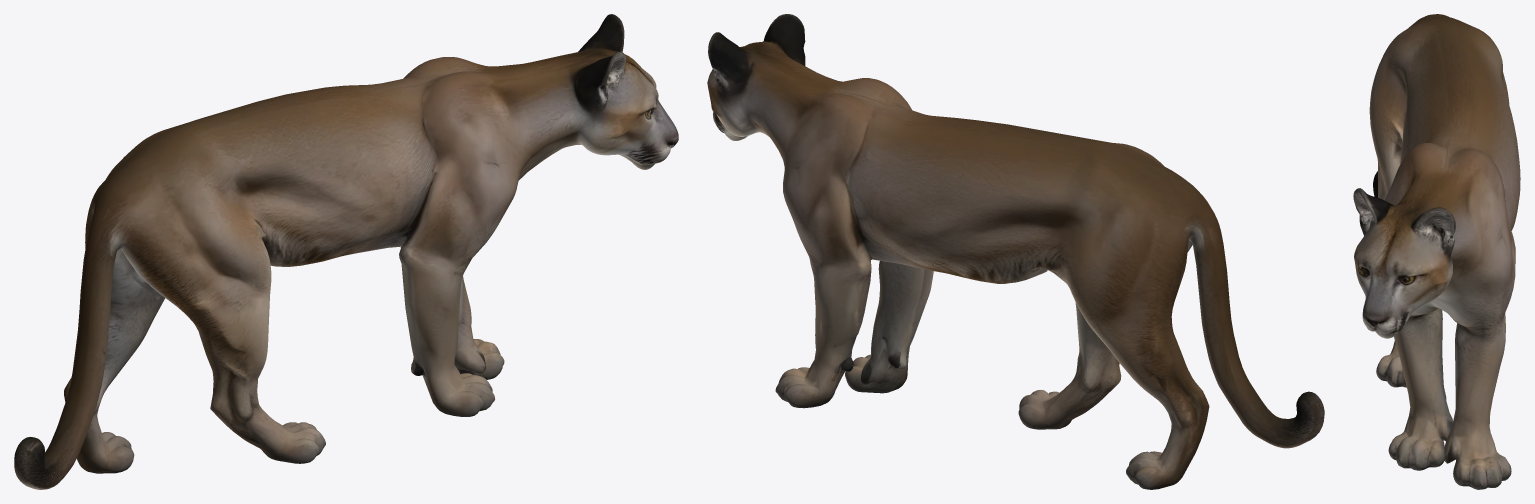
The model's file is florida-panther.glb.
3 views of the same model, side by side, from view 1: azimuth 30°, elevation 25°; view 2: azimuth 150°, elevation 25°; view 3: azimuth 270°, elevation 25° (orthographic). The views are drawn at different scales.
Parts seen in each view (by area): view 1: node_0; view 2: node_0; view 3: node_0.
Boxes of the visible parts, x1,y1,x2,y2 form: node_0: [14, 14, 678, 489]; node_0: [707, 14, 1324, 489]; node_0: [1353, 14, 1520, 489].
Size of the model in its own units: 1.13 by 0.5679 by 0.2619.
Materials: 1 (1 with a texture image).
